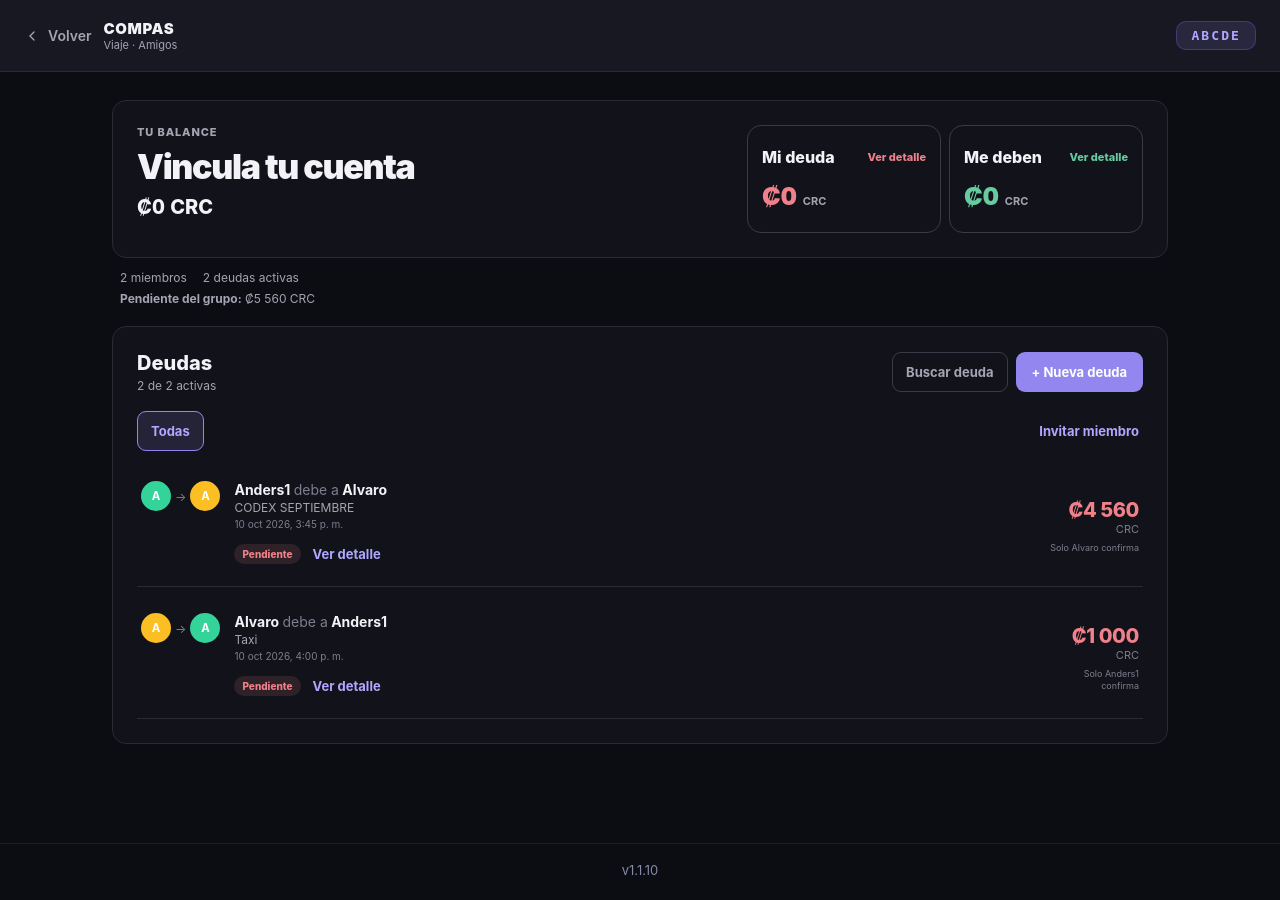
Test: GroupPage debt cards › compares and compensates mutual debt in the selected currency
Click the button "Buscar deuda" at point(950, 372), box [892,352,1008,392]
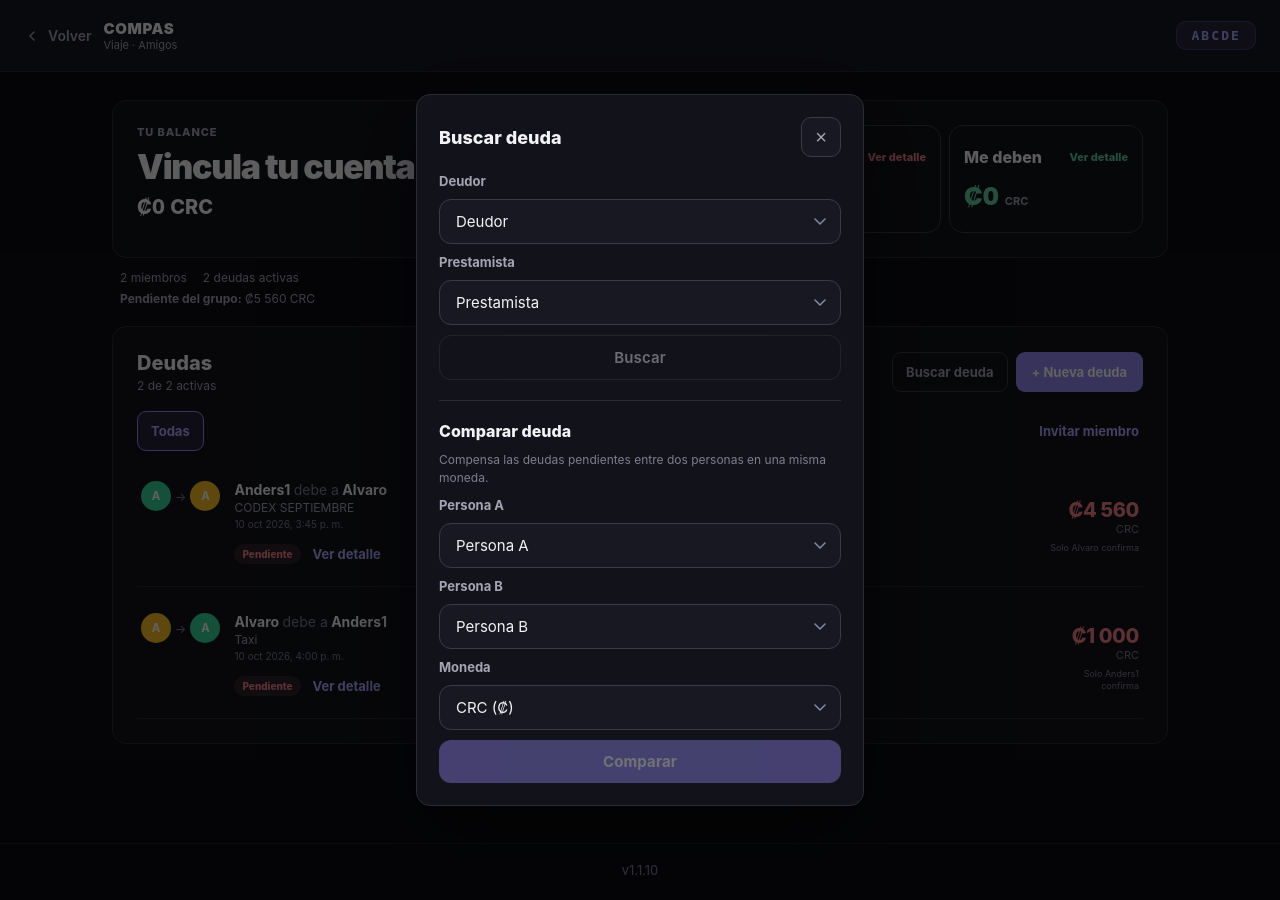
Check: the text "Comparar deuda" is shown, box [439,421,571,441]
Select "Anders1" in the dropdown labelled "Persona A" at point(640, 546), box [439,523,841,568]
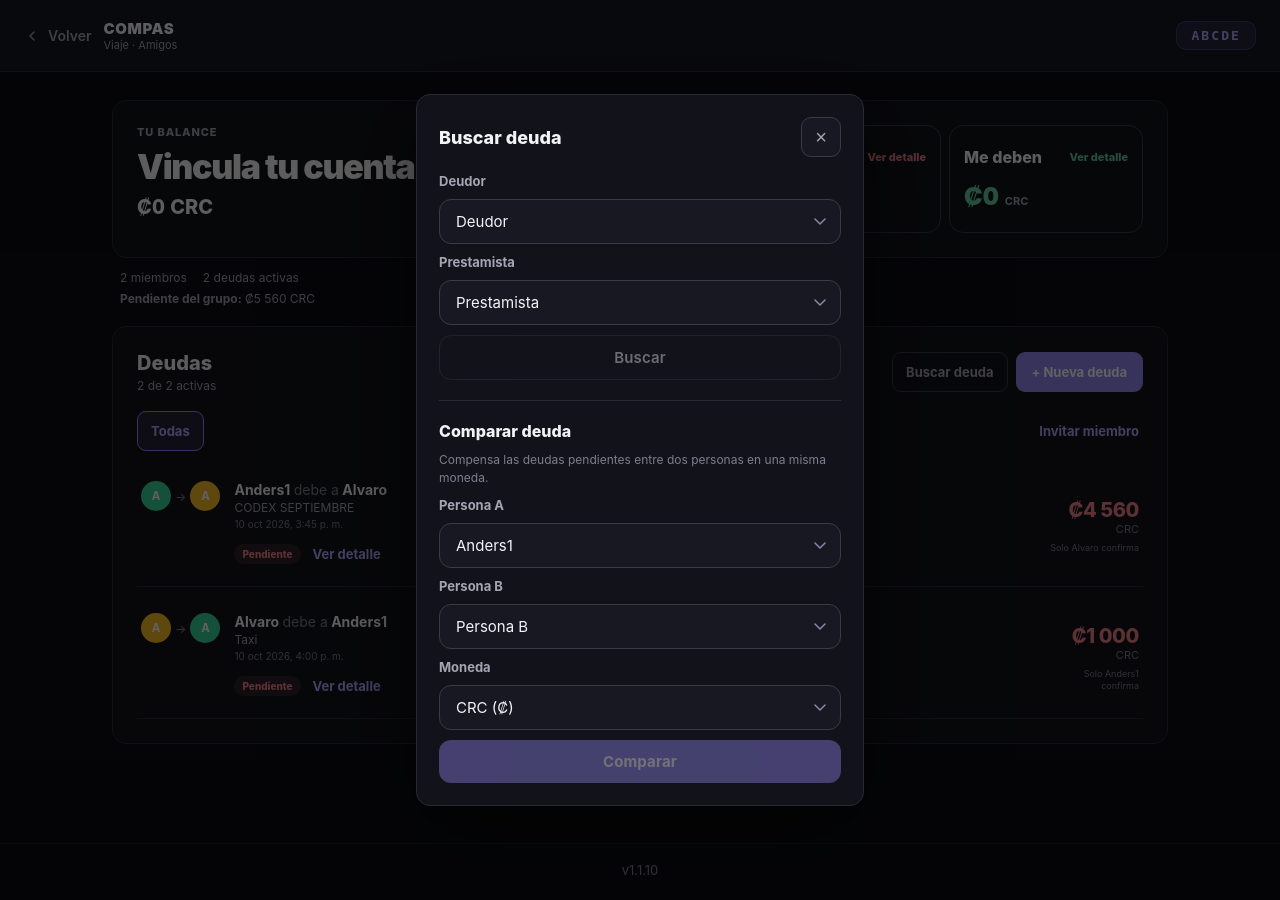
Select "Alvaro" in the dropdown labelled "Persona B" at point(640, 626), box [439,604,841,649]
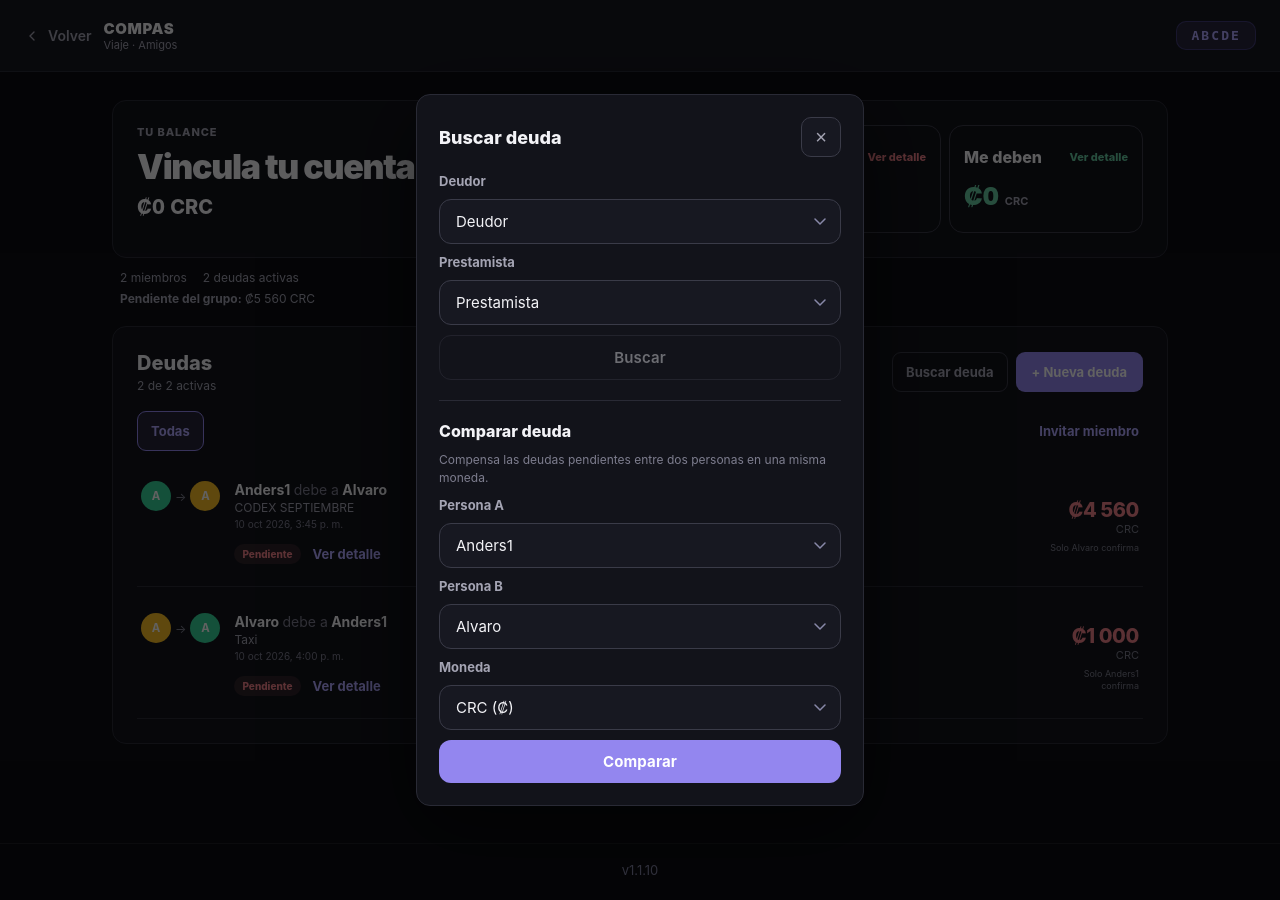
Select "CRC (₡)" in the dropdown labelled "Moneda" at point(640, 708), box [439,685,841,730]
Click the button "Comparar" at point(640, 762), box [439,740,841,783]
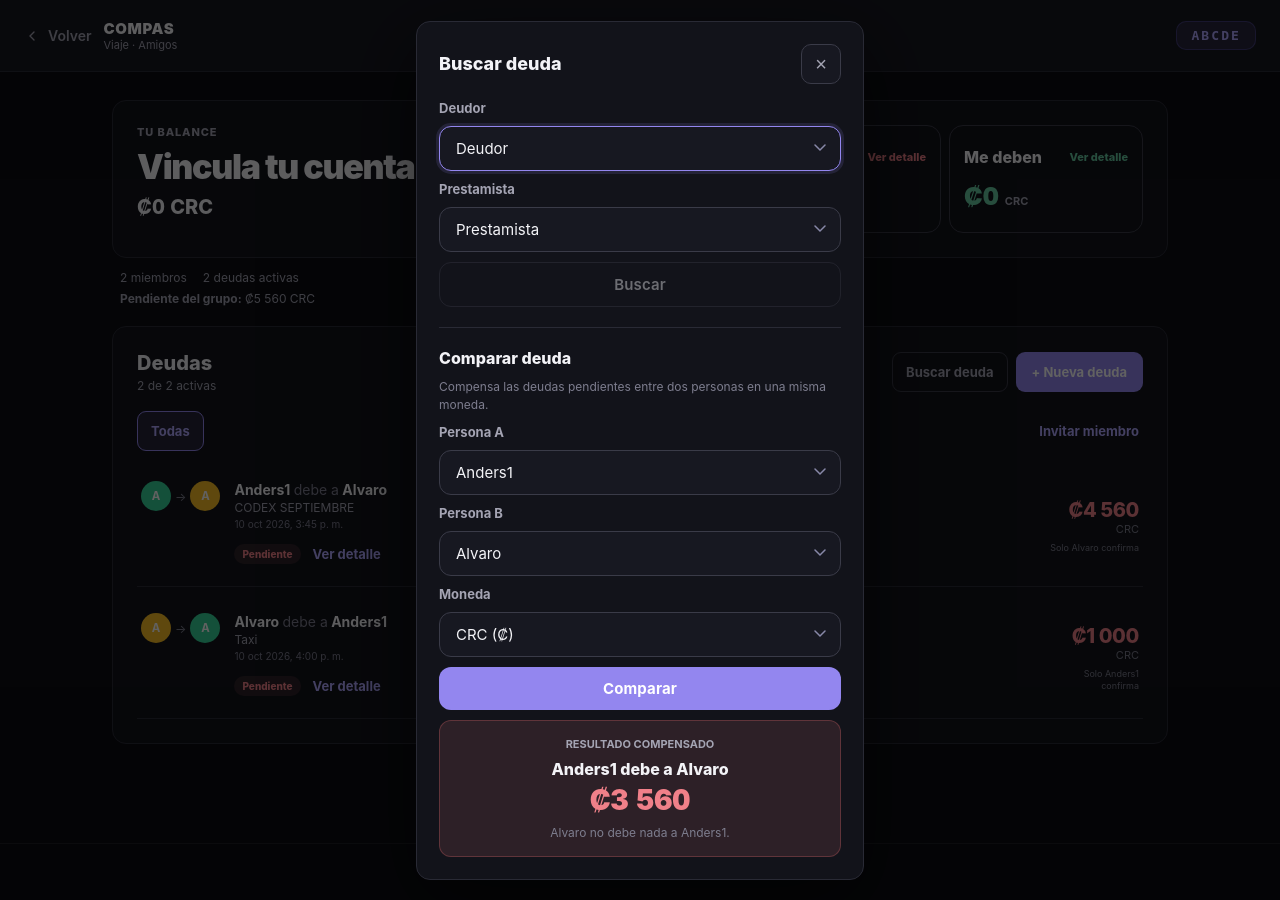
Check: the text "Anders1 debe a Alvaro" is shown, box [552,758,729,778]
Check: the text "₡3 560" is shown, box [590,782,690,816]
